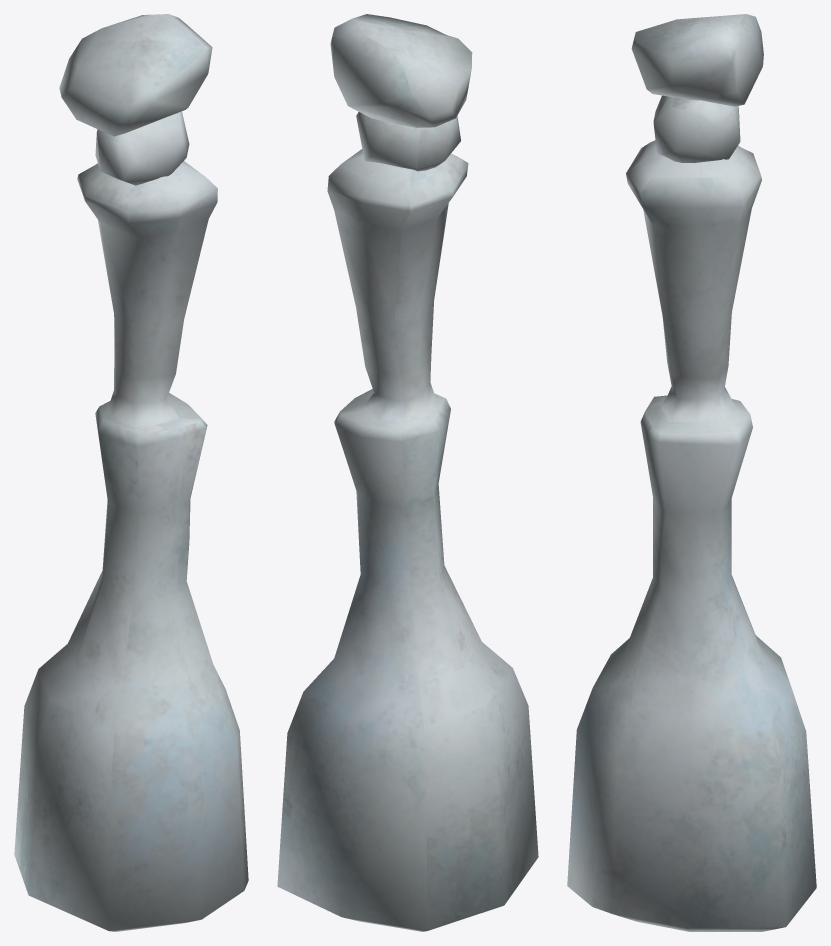
Rendered from P_RockDesert_Hoodoo07.obj.
3 views of the same model, side by side, from view 1: azimuth 30°, elevation 25°; view 2: azimuth 150°, elevation 25°; view 3: azimuth 270°, elevation 25° (orthographic). The views are drawn at different scales.
Size of the model in its own units: 3.81 by 16.66 by 4.22.
